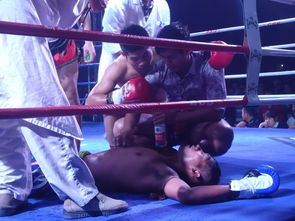falling: (1, 135, 294, 205)
